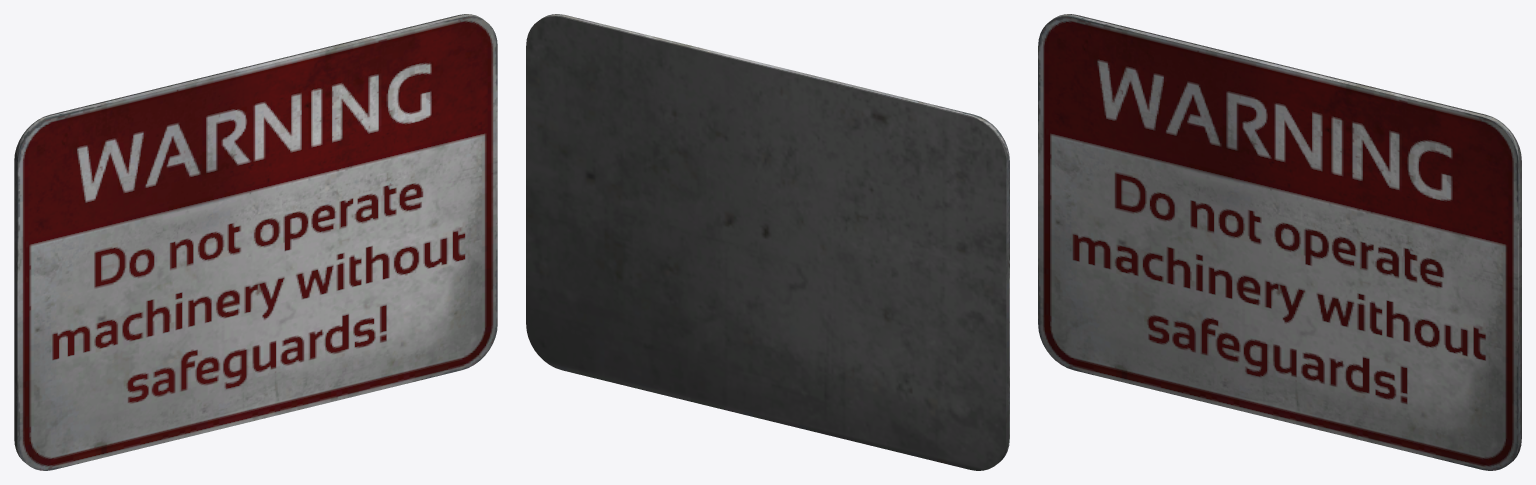
The model's file is sign_warning_machinery.dae.
3 views of the same model, side by side, from view 1: azimuth 30°, elevation 25°; view 2: azimuth 150°, elevation 25°; view 3: azimuth 330°, elevation 25° (orthographic).
Visible parts, largest first — view 1: sign_warning_machinery; view 2: sign_warning_machinery; view 3: sign_warning_machinery.
Part boxes in pixels (left/top/right/bottom): sign_warning_machinery: left=14, top=14, right=497, bottom=470; sign_warning_machinery: left=526, top=14, right=1009, bottom=470; sign_warning_machinery: left=1038, top=14, right=1521, bottom=470.
Bounding box in the file's own units: 0.3985 × 0.2798 × 0.00488.
